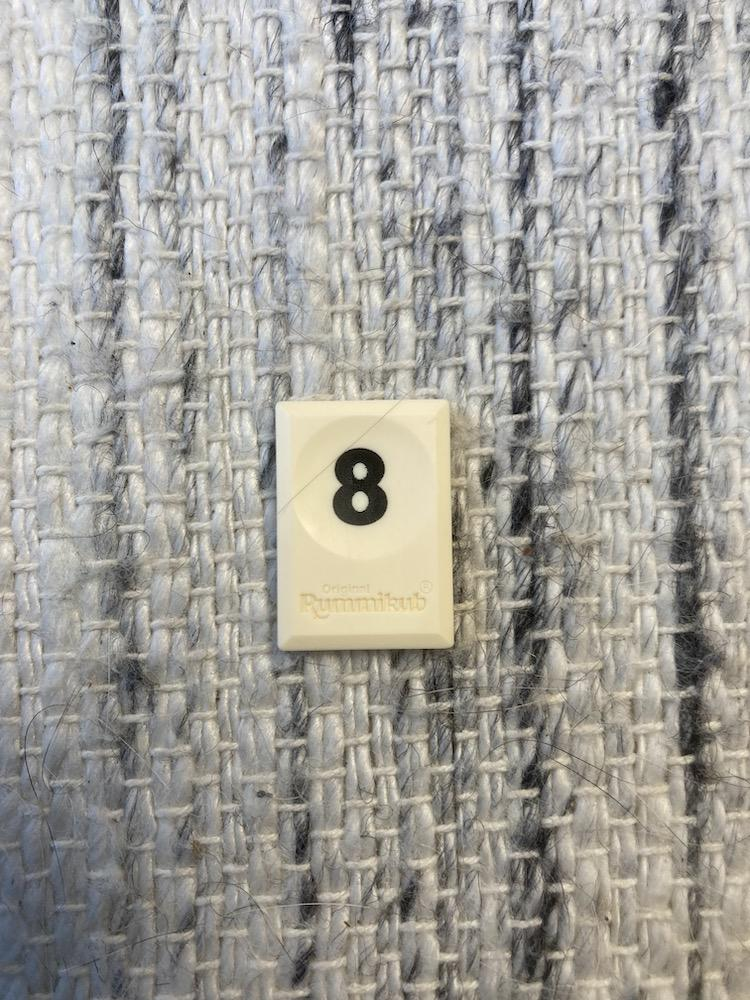black_8: (277, 403, 453, 648)
